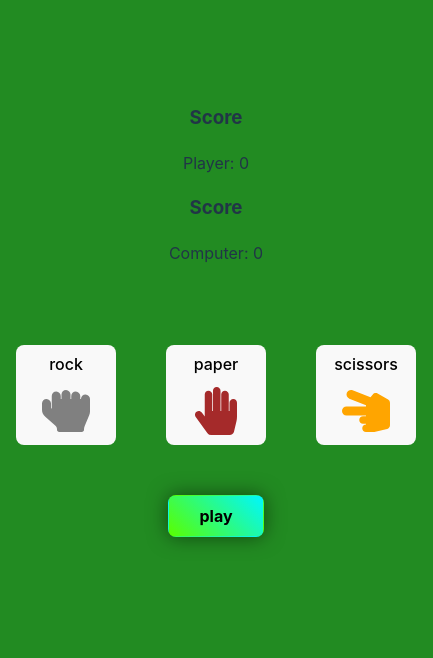
Test case: Score And Result › Should display the Player Winner after timer goes off in 3 seconds
This screenshot has width=433, height=658.
Expected: the button "play" is shown, x1=168 y1=494 x2=264 y2=536
Click the button "paper" at (216, 394), box x1=166 y1=344 x2=266 y2=444
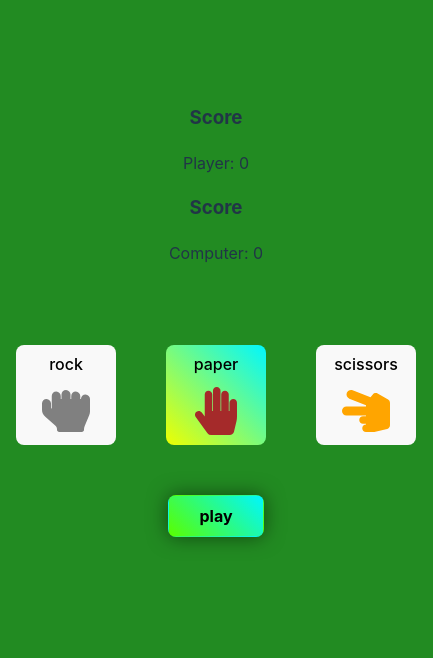
Click the button "play" at (216, 516), box x1=168 y1=494 x2=264 y2=536
Wait 3000 ms
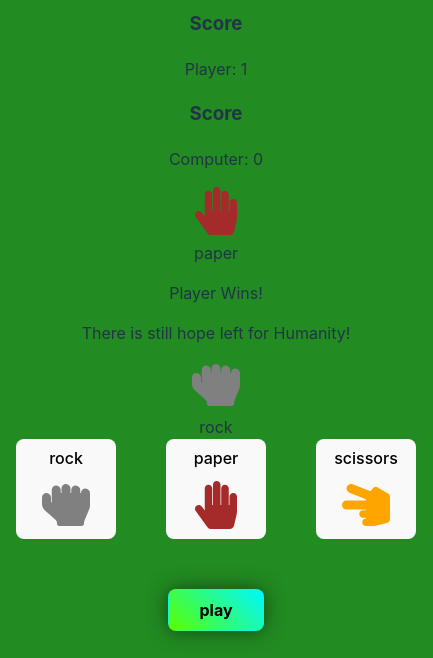
Expected: the text "Player Wins!" is shown, x1=169 y1=282 x2=263 y2=302
Expected: the text "There is still hope left for Humanity!" is shown, x1=82 y1=322 x2=350 y2=342
Expected: the text "Player: 1" is shown, x1=185 y1=59 x2=247 y2=79
